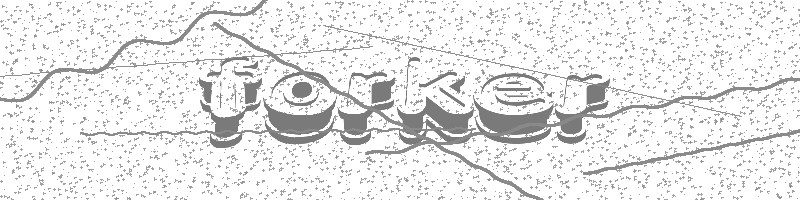e: (472, 71, 555, 144)
f: (196, 54, 262, 150)
k: (397, 55, 473, 149)
o: (264, 69, 335, 145)
r: (335, 68, 396, 145), (554, 69, 610, 144)
